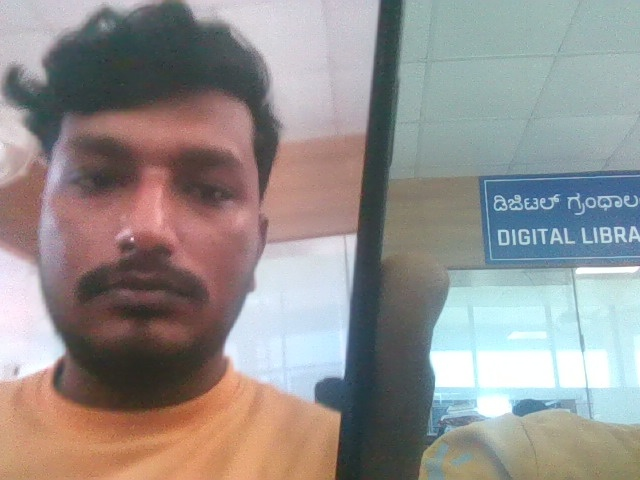fake: (0, 0, 298, 423)
